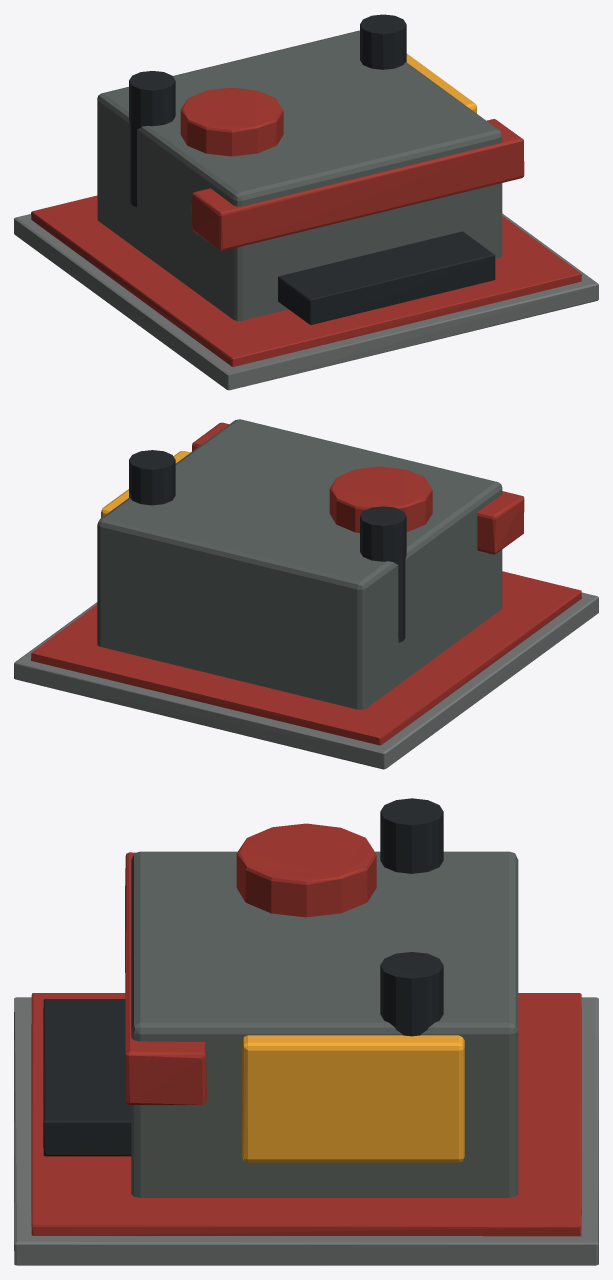
File: SM_Soviet_SU_Refinery_LOD1.fbx
3 views of the same model, one above another, from view 1: azimuth 30°, elevation 25°; view 2: azimuth 150°, elevation 25°; view 3: azimuth 270°, elevation 25° (orthographic). The views are drawn at different scales.
Parts seen in each view (by area): view 1: LOD01_SM_Soviet_SU_Refinery; view 2: LOD01_SM_Soviet_SU_Refinery; view 3: LOD01_SM_Soviet_SU_Refinery.
Boxes of the visible parts, left/top/right/bottom form: LOD01_SM_Soviet_SU_Refinery: left=14, top=14, right=598, bottom=390; LOD01_SM_Soviet_SU_Refinery: left=14, top=419, right=598, bottom=769; LOD01_SM_Soviet_SU_Refinery: left=14, top=798, right=598, bottom=1265.
Size of the model in its own units: 799 by 799 by 384.
